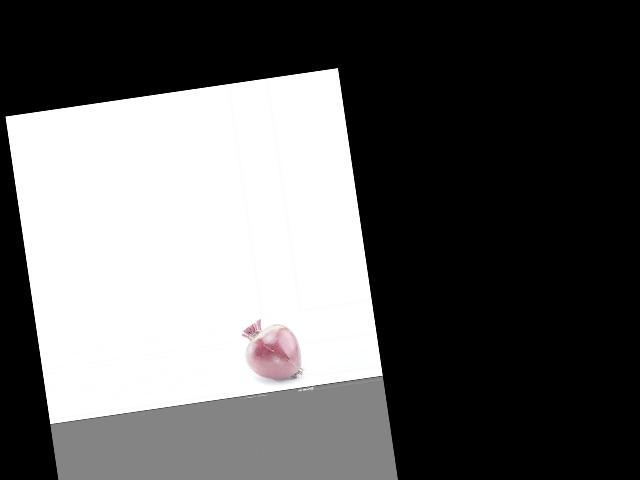beet: (239, 314, 303, 384)
